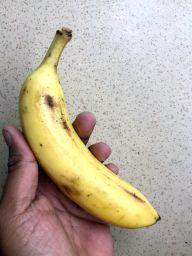Banana Ripe: (18, 20, 160, 236)
